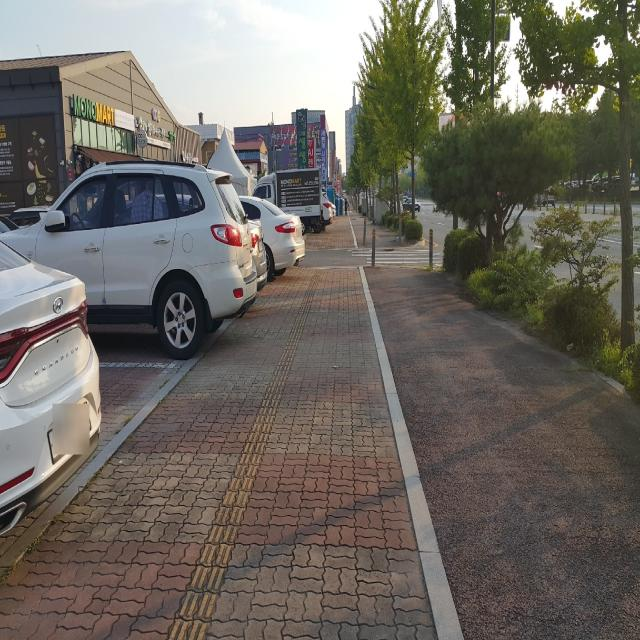횡단보도: (366, 248, 444, 266)
